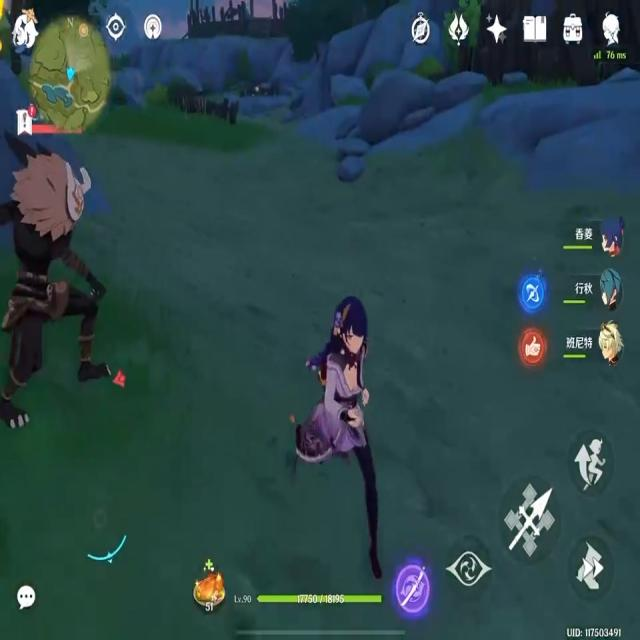genshin-hilichurls: (0, 128, 114, 434)
